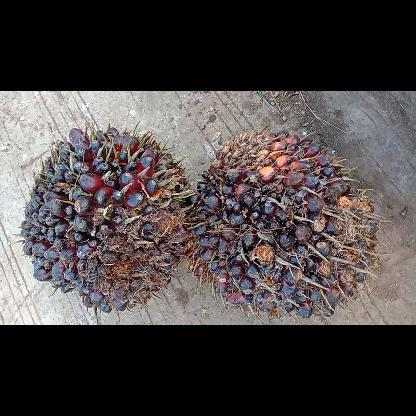TBS mentah: (188, 128, 378, 316), (22, 128, 188, 312)
